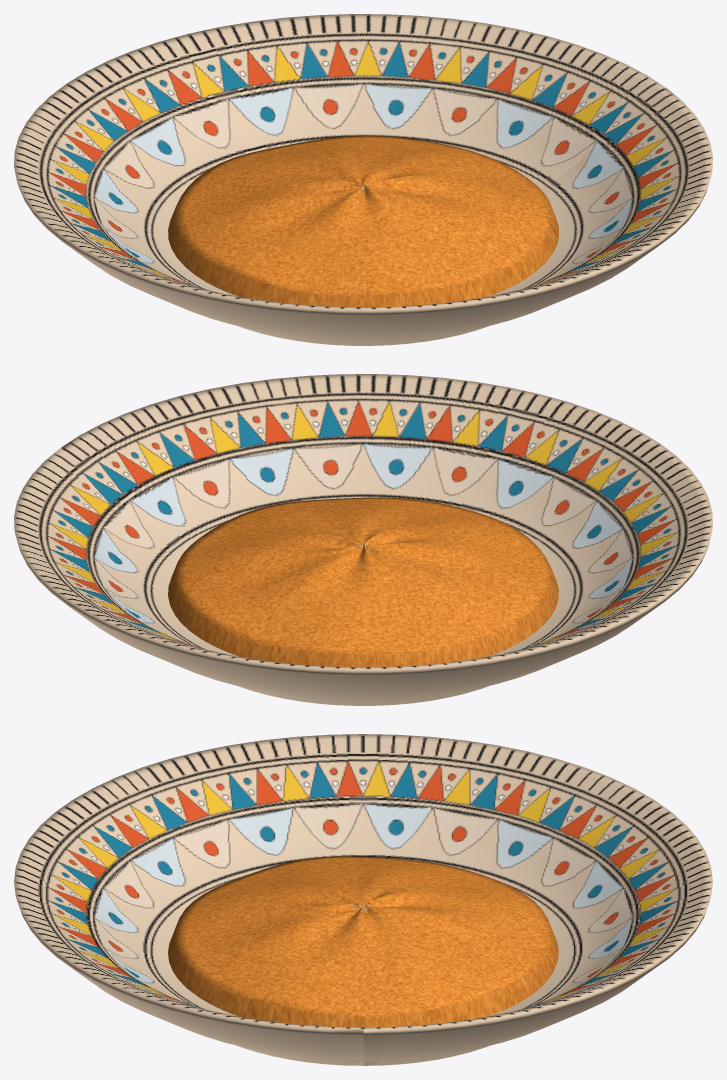
Rendered from Couscous_Plat_030pct.obj.
3 views of the same model, one above another, from view 1: azimuth 30°, elevation 25°; view 2: azimuth 150°, elevation 25°; view 3: azimuth 270°, elevation 25° (orthographic).
Visible parts, largest first — view 1: 00_Plate_Tebsi_Ceramic, 01_Couscous_Semolina_Mound; view 2: 00_Plate_Tebsi_Ceramic, 01_Couscous_Semolina_Mound; view 3: 00_Plate_Tebsi_Ceramic, 01_Couscous_Semolina_Mound.
Boxes of the visible parts, x1=… form: 00_Plate_Tebsi_Ceramic: x1=14, y1=14, x2=712, y2=345; 01_Couscous_Semolina_Mound: x1=168, y1=135, x2=558, y2=307; 00_Plate_Tebsi_Ceramic: x1=14, y1=374, x2=712, y2=705; 01_Couscous_Semolina_Mound: x1=168, y1=497, x2=558, y2=667; 00_Plate_Tebsi_Ceramic: x1=14, y1=734, x2=712, y2=1065; 01_Couscous_Semolina_Mound: x1=168, y1=856, x2=558, y2=1027.
Bounding box in the file's own units: 0.32 × 0.052 × 0.32.
1 material, 1 textured.
